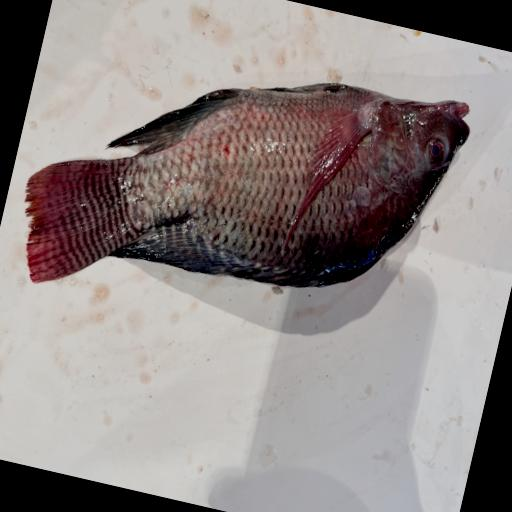Tilapia: (6, 11, 477, 371)
